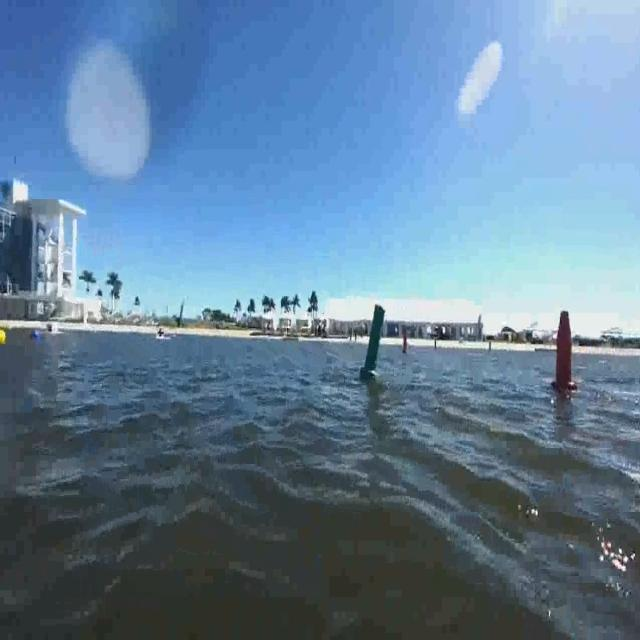blue-buoy: (32, 329, 42, 346)
green-column-buoy: (360, 303, 387, 382)
red-column-buoy: (553, 307, 578, 392), (400, 329, 409, 355)
yellow-buoy: (0, 328, 8, 347)
